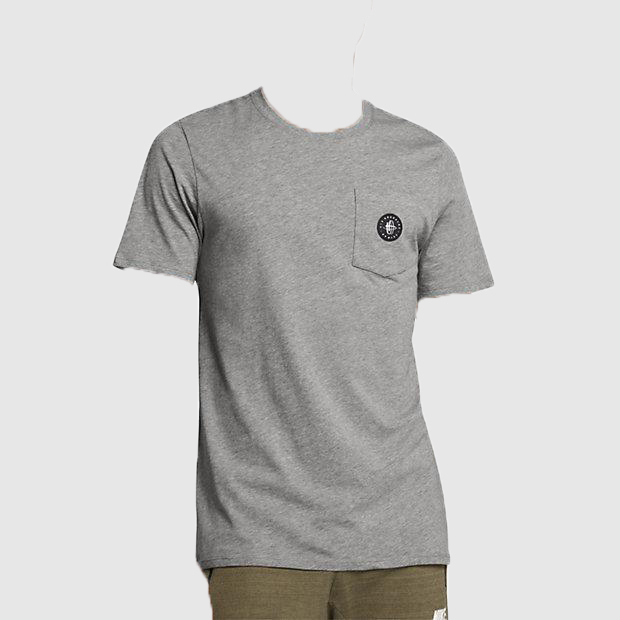teeshirt: (109, 85, 508, 575)
